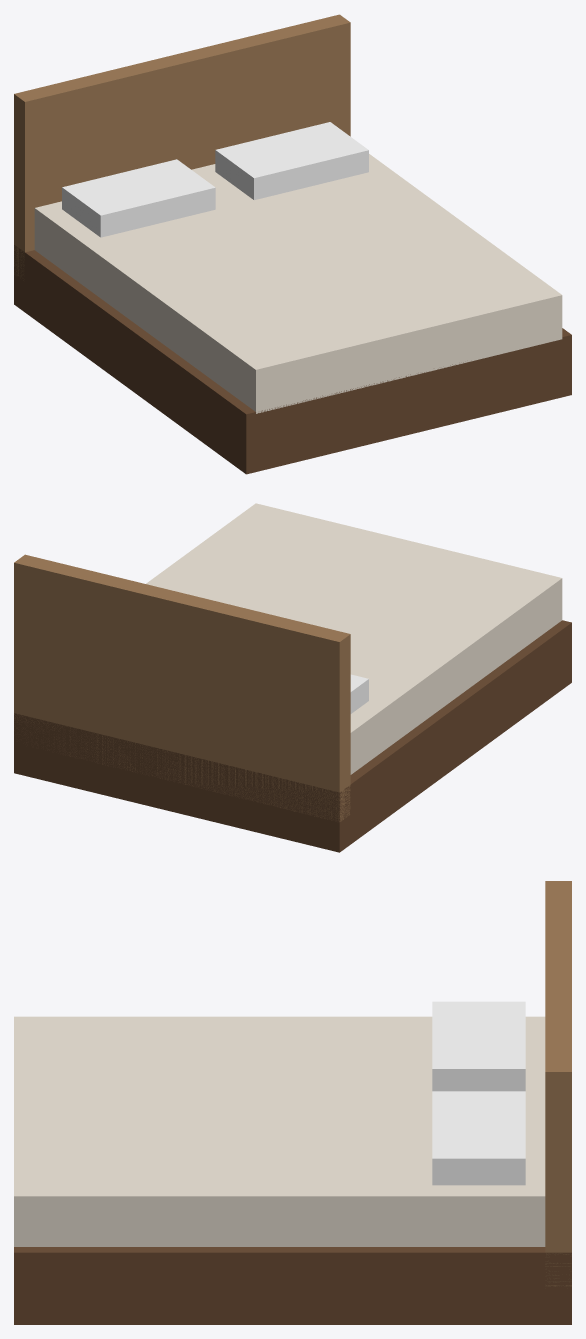
File: bed.glb
The picture shows the model from 3 angles, top to bottom: view 1: azimuth 30°, elevation 25°; view 2: azimuth 150°, elevation 25°; view 3: azimuth 270°, elevation 25°; orthographic projection. The views are drawn at different scales.
Visible parts, largest first — view 1: bed; view 2: bed; view 3: bed.
Part boxes in pixels (x1,y1,x2,y2): bed: [14, 14, 571, 474]; bed: [14, 503, 571, 852]; bed: [14, 881, 571, 1324].
Size of the model in its own units: 1.7 by 1.05 by 2.1.
